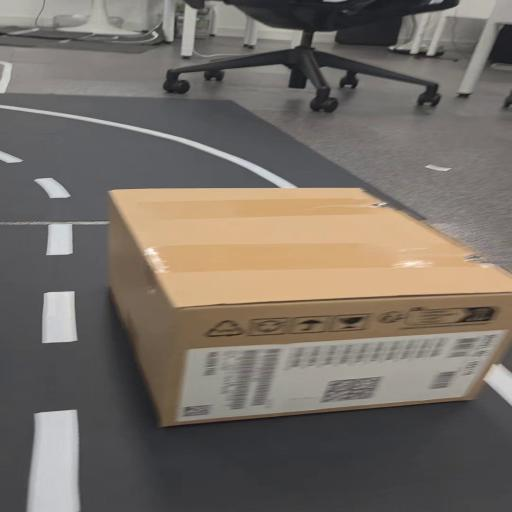Box: (88, 177, 512, 438)
